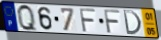6: (36, 6, 54, 32)
7: (60, 7, 76, 33)
D: (122, 9, 143, 37)
F: (79, 8, 98, 34), (103, 9, 122, 35)
Q: (16, 4, 39, 33)
